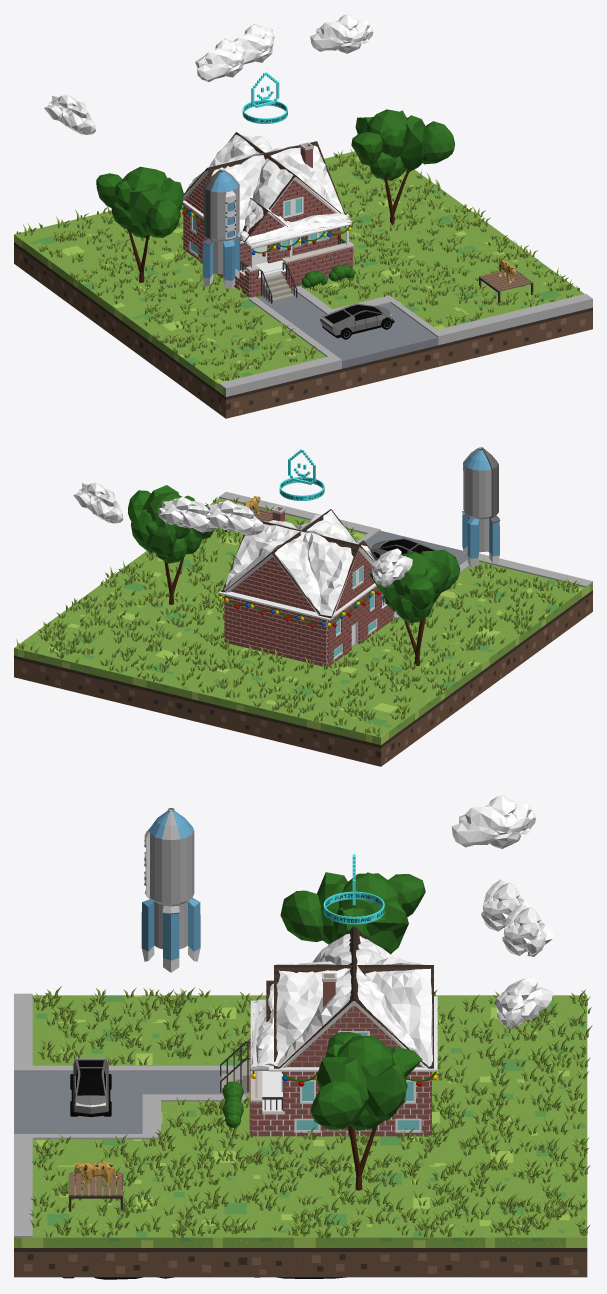
3 views of the same model, one above another, from view 1: azimuth 30°, elevation 25°; view 2: azimuth 150°, elevation 25°; view 3: azimuth 270°, elevation 25° (orthographic). The views are drawn at different scales.
Parts seen in each view (by area): view 1: Cube.006, Circle.012_Grass_0.192, Cube.1419, Cube.007, tree, tree.001, OBJRANDOM_ROCKETSHIP, VEHICLES_CYBERTRUCK, TYPE_PREMIUM, Cube.009; view 2: Cube.006, Cube.1419, Circle.012_Grass_0.192, Cube.007, OBJRANDOM_ROCKETSHIP, tree.001, tree, TYPE_PREMIUM, VEHICLES_CYBERTRUCK; view 3: Cube.006, Circle.012_Grass_0.192, Cube.1419, tree, Cube.007, OBJRANDOM_ROCKETSHIP, tree.001, VEHICLES_CYBERTRUCK, Cube.009, TYPE_PREMIUM, ANIMAL_JAGUAR.
Boxes of the visible parts, x1,y1,x2,y2 form: Cube.006: (14, 151, 592, 418); Circle.012_Grass_0.192: (16, 148, 579, 381); Cube.1419: (181, 132, 354, 303); Cube.007: (44, 14, 373, 134); tree: (351, 109, 454, 225); tree.001: (96, 166, 183, 282); OBJRANDOM_ROCKETSHIP: (202, 169, 240, 289); VEHICLES_CYBERTRUCK: (320, 303, 394, 339); TYPE_PREMIUM: (242, 72, 287, 123); Cube.009: (479, 270, 533, 302); Cube.006: (14, 491, 592, 766); Cube.1419: (218, 506, 393, 666); Circle.012_Grass_0.192: (16, 497, 579, 736); Cube.007: (73, 482, 412, 587); OBJRANDOM_ROCKETSHIP: (462, 447, 500, 567); tree.001: (369, 549, 460, 665); tree: (128, 485, 213, 604); TYPE_PREMIUM: (279, 449, 324, 500); VEHICLES_CYBERTRUCK: (370, 538, 437, 558); Cube.006: (14, 993, 587, 1277); Circle.012_Grass_0.192: (29, 986, 592, 1238); Cube.1419: (220, 926, 437, 1136); tree: (310, 1031, 422, 1190); Cube.007: (451, 795, 552, 1028); OBJRANDOM_ROCKETSHIP: (141, 808, 200, 972); tree.001: (280, 872, 425, 954); VEHICLES_CYBERTRUCK: (70, 1058, 111, 1116); Cube.009: (69, 1172, 122, 1211); TYPE_PREMIUM: (323, 854, 384, 924); ANIMAL_JAGUAR: (74, 1162, 121, 1186).
Bounding box in the file's own units: 4071 × 2273 × 4040.
43 materials, 4 textured.
